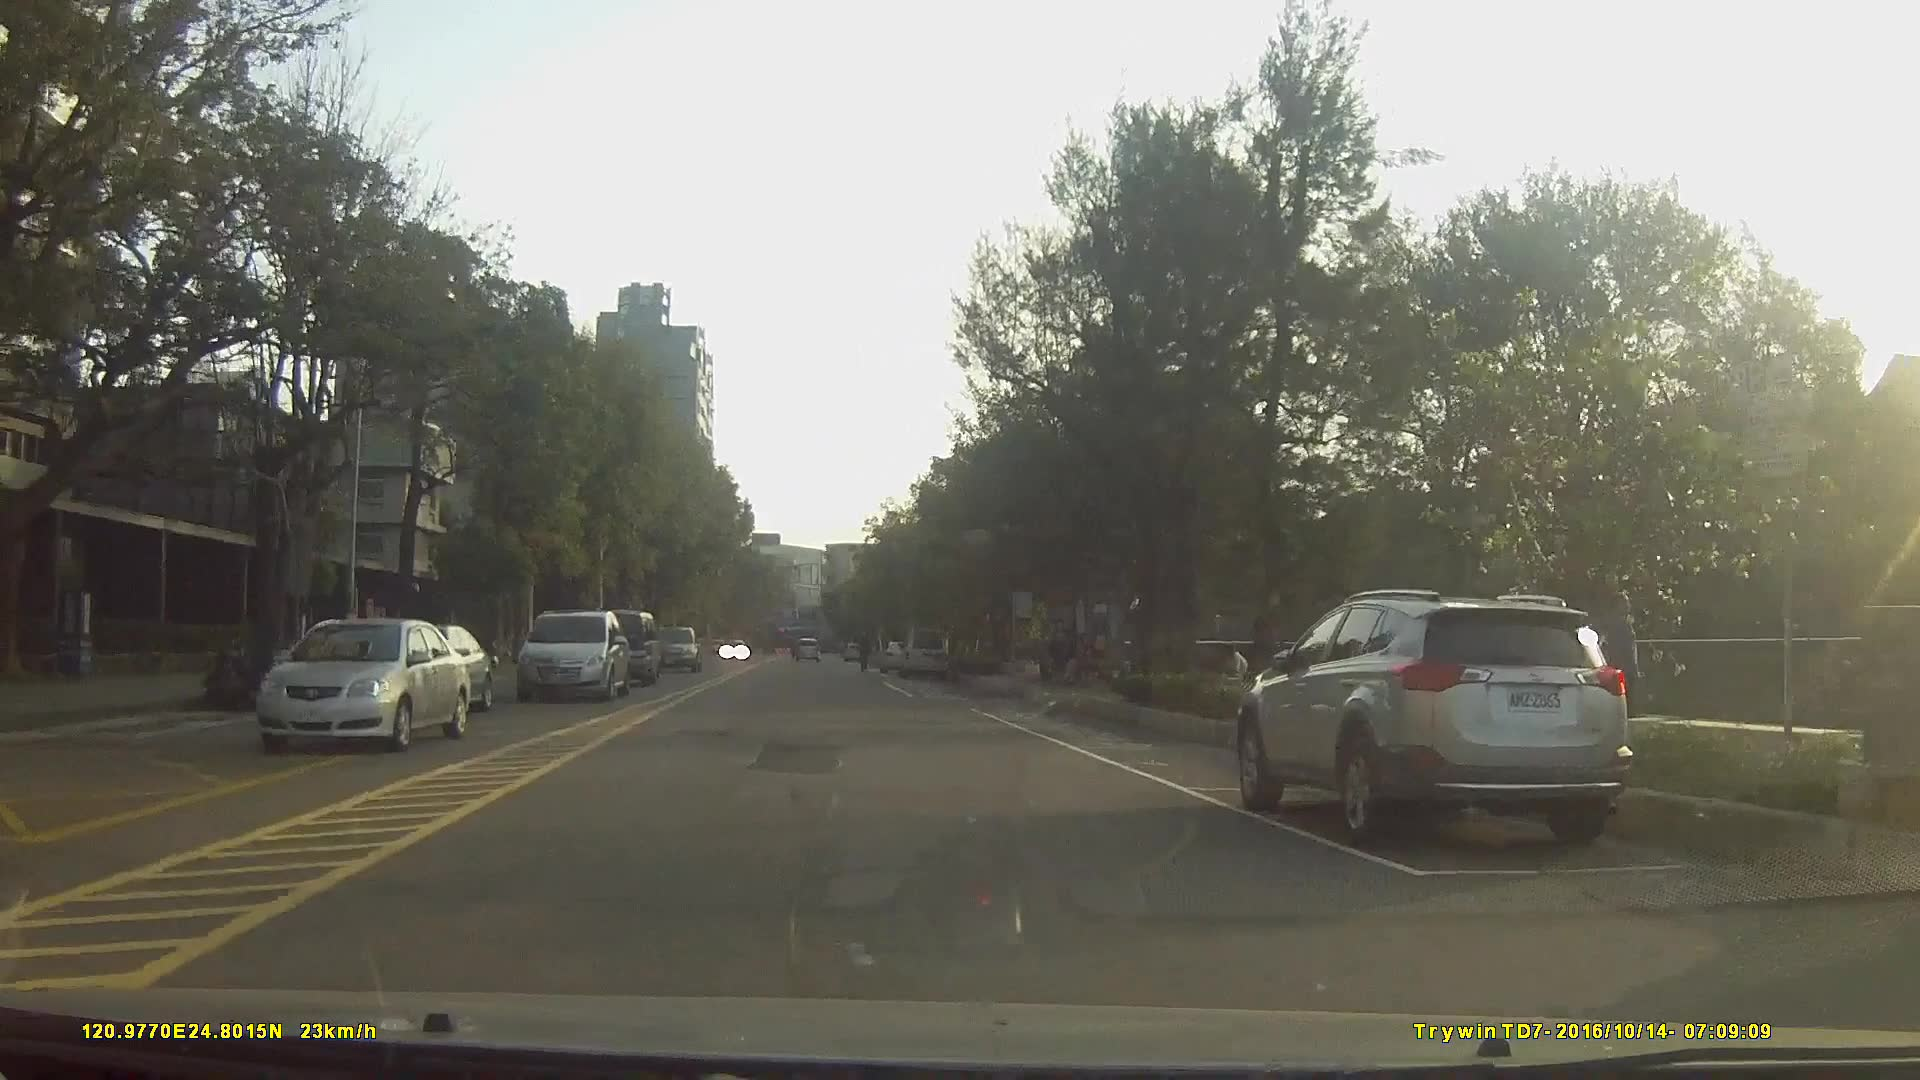vehicle: (1240, 589, 1633, 847), (252, 618, 469, 753), (517, 611, 629, 703), (895, 622, 949, 680), (647, 624, 702, 673), (880, 640, 915, 673), (793, 636, 819, 663)
